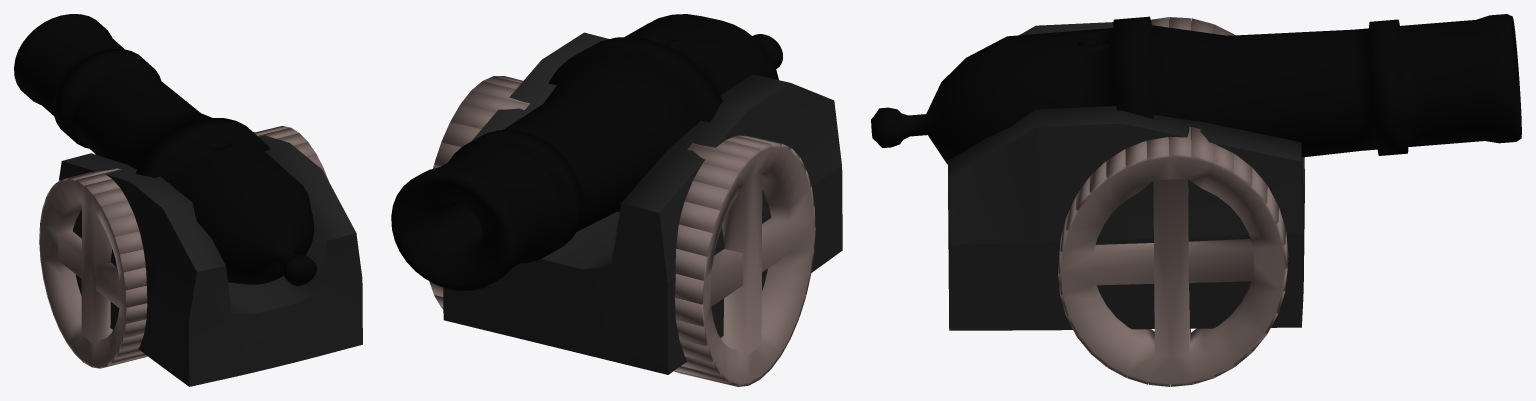
The model's file is canion.obj.
3 views of the same model, side by side, from view 1: azimuth 30°, elevation 25°; view 2: azimuth 150°, elevation 25°; view 3: azimuth 270°, elevation 25° (orthographic). The views are drawn at different scales.
Visible parts, largest first — view 1: cañon; view 2: cañon; view 3: cañon.
Boxes of the visible parts, box(x1,y1,x2,y2) form: cañon: box(14, 14, 362, 386); cañon: box(391, 14, 842, 386); cañon: box(871, 14, 1521, 386).
Size of the model in its own units: 1.5 by 1.52 by 3.01.
3 materials, 1 textured.
